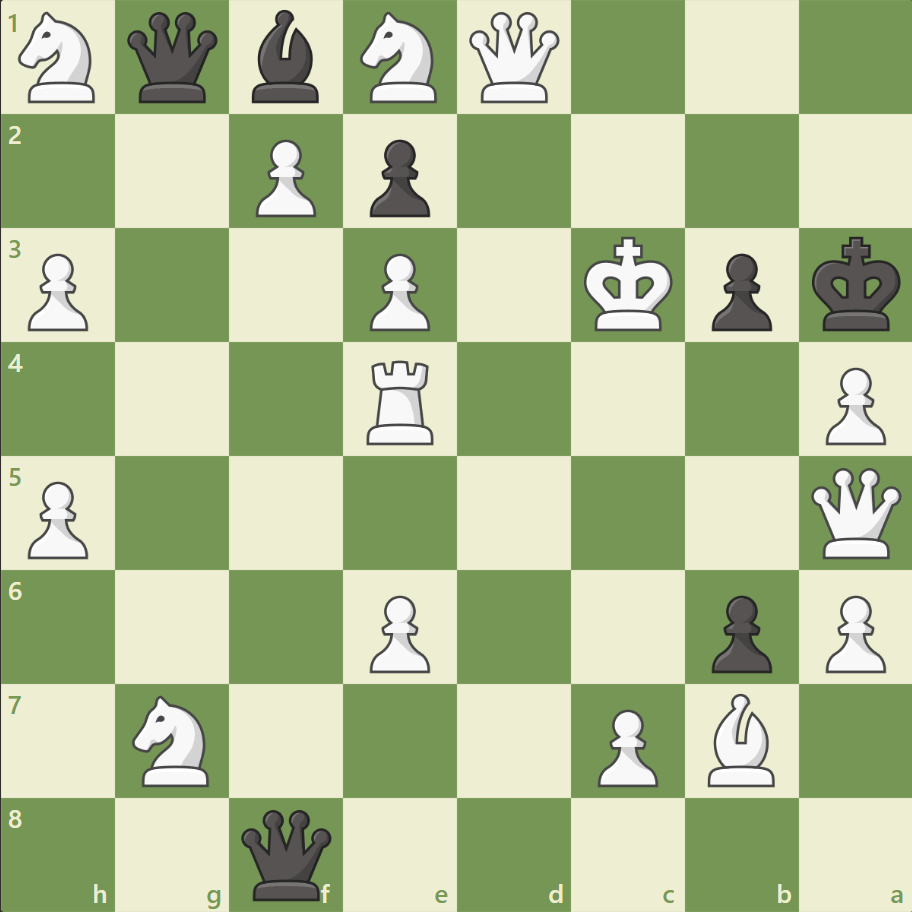B: (698, 687, 782, 790)
K: (579, 231, 679, 339)
N: (124, 688, 222, 791), (351, 7, 449, 110), (11, 7, 108, 110)
P: (20, 473, 95, 564), (20, 246, 95, 337), (247, 132, 322, 223), (588, 700, 662, 791), (815, 586, 889, 677), (361, 586, 435, 677), (815, 359, 889, 450), (361, 246, 435, 337)
Q: (805, 463, 904, 562), (464, 9, 563, 108)
R: (360, 352, 442, 449)
b: (244, 6, 328, 109)
k: (806, 231, 906, 339)
p: (701, 586, 776, 677), (701, 246, 776, 337), (361, 132, 435, 223)
q: (237, 804, 336, 903), (124, 9, 223, 108)
